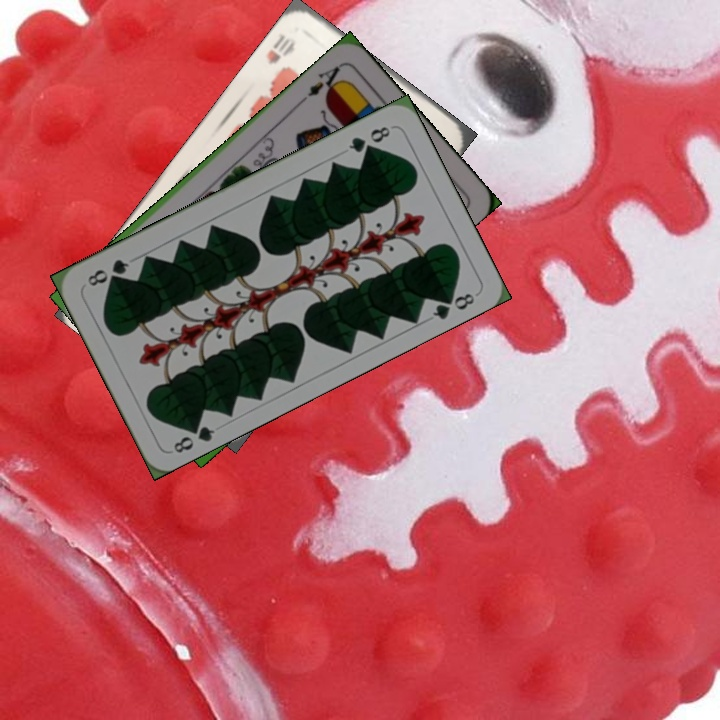EA: (297, 59, 346, 105)
G8: (169, 417, 218, 456), (344, 122, 394, 155)
H10: (262, 29, 298, 68)
